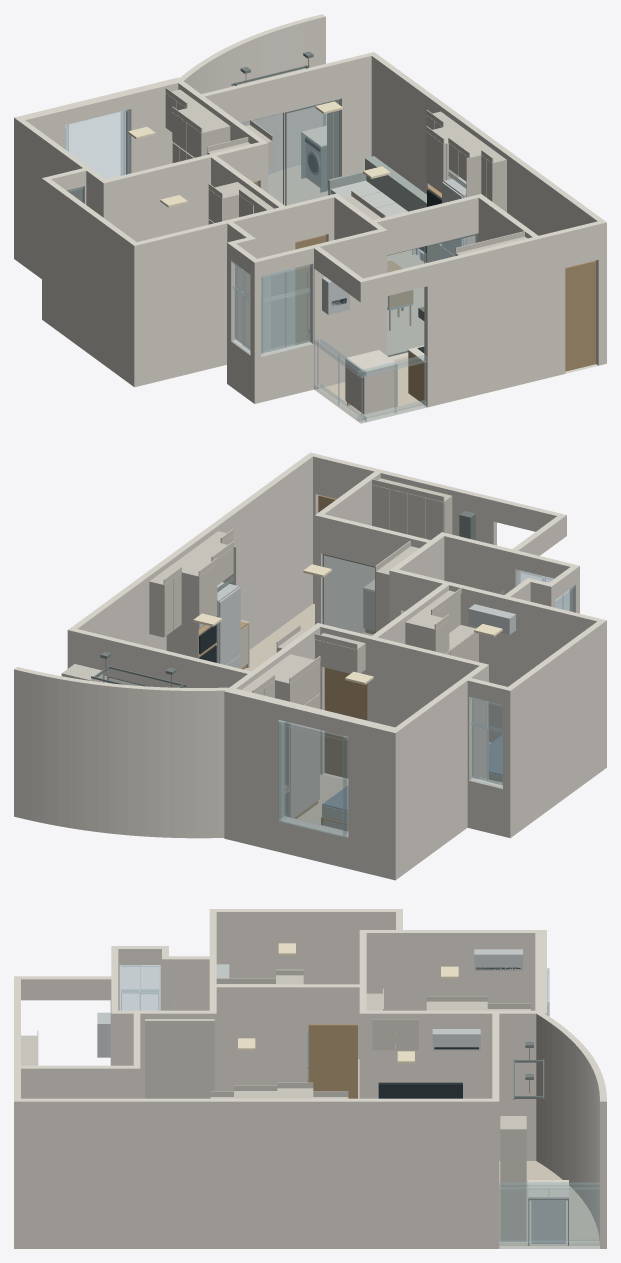
The model's file is home-layout.obj.
3 views of the same model, one above another, from view 1: azimuth 30°, elevation 25°; view 2: azimuth 150°, elevation 25°; view 3: azimuth 270°, elevation 25° (orthographic). The views are drawn at different scales.
Visible parts, largest first — view 1: 000_1-Wall, 512_balcony-door-glass-1, 007_Layer_1-window_3, 010_Layer_1-window_7, 493_entry-door-leaf, 497_kitchen-door-glass-0, 012_Layer_1-window_9, 411_shower-diagonal-door, 004_1_RoomGround-12, 008_Layer_1-window_4, 181_sofa-back, 002_1_RoomGround-0 (+12 smaller); view 2: 000_1-Wall, 010_Layer_1-window_7, 502_kitchen-door-glass-1, 009_Layer_1-window_6, 494_master-door-leaf, 290_oven-side300, 271_fridge-door-688, 004_1_RoomGround-12, 489_ac-second-body, 003_1_RoomGround-7, 321_robot-upper-side-0, 225_shoe-upper-side-0 (+10 smaller); view 3: 000_1-Wall, 011_Layer_1-window_8, 495_second-door-leaf, 464_balcony-housekeeping-back, 002_1_RoomGround-0, 231_shoe-upper-door-0, 232_shoe-upper-door-1, 008_Layer_1-window_4, 444_washer-body, 210_tv-screen-body, 487_ac-master-body, 491_ac-living-body (+8 smaller).
Part boxes in pixels (<box>): 000_1-Wall: <box>14,14,606,423</box>; 512_balcony-door-glass-1: <box>287,101,339,205</box>; 007_Layer_1-window_3: <box>261,264,312,356</box>; 010_Layer_1-window_7: <box>65,109,130,178</box>; 493_entry-door-leaf: <box>565,260,595,371</box>; 497_kitchen-door-glass-0: <box>387,247,424,355</box>; 012_Layer_1-window_9: <box>314,338,427,423</box>; 411_shower-diagonal-door: <box>271,269,305,348</box>; 004_1_RoomGround-12: <box>387,250,426,357</box>; 008_Layer_1-window_4: <box>231,261,250,354</box>; 181_sofa-back: <box>365,156,426,211</box>; 002_1_RoomGround-0: <box>268,164,328,205</box>; 000_1-Wall: <box>14,452,606,880</box>; 010_Layer_1-window_7: <box>277,720,348,837</box>; 502_kitchen-door-glass-1: <box>324,555,374,635</box>; 009_Layer_1-window_6: <box>469,697,502,788</box>; 494_master-door-leaf: <box>324,667,367,778</box>; 290_oven-side300: <box>166,568,198,658</box>; 271_fridge-door-688: <box>219,587,240,664</box>; 004_1_RoomGround-12: <box>244,604,314,671</box>; 489_ac-second-body: <box>468,604,515,634</box>; 003_1_RoomGround-7: <box>297,774,348,824</box>; 321_robot-upper-side-0: <box>149,581,163,637</box>; 225_shoe-upper-side-0: <box>376,571,389,632</box>; 000_1-Wall: <box>14,909,606,1248</box>; 011_Layer_1-window_8: <box>499,1182,599,1248</box>; 495_second-door-leaf: <box>308,1024,357,1098</box>; 464_balcony-housekeeping-back: <box>500,1129,526,1241</box>; 002_1_RoomGround-0: <box>499,1161,599,1245</box>; 231_shoe-upper-door-0: <box>180,1026,214,1086</box>; 232_shoe-upper-door-1: <box>146,1026,179,1085</box>; 008_Layer_1-window_4: <box>120,965,160,1010</box>; 444_washer-body: <box>531,1200,565,1243</box>; 210_tv-screen-body: <box>378,1082,462,1098</box>; 487_ac-master-body: <box>474,949,522,970</box>; 491_ac-living-body: <box>432,1029,480,1050</box>.
Size of the model in its own units: 7.85 by 2.8 by 10.22.
